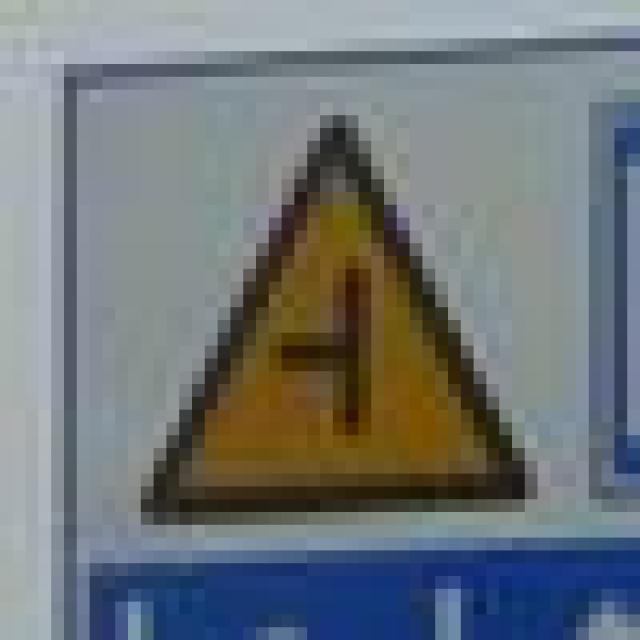side road left: (139, 115, 531, 511)
